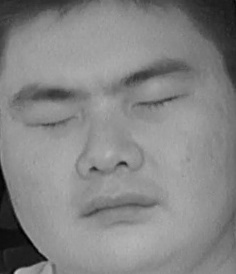blink: (131, 86, 188, 120), (25, 109, 79, 139)
mouth: (77, 186, 164, 229)
